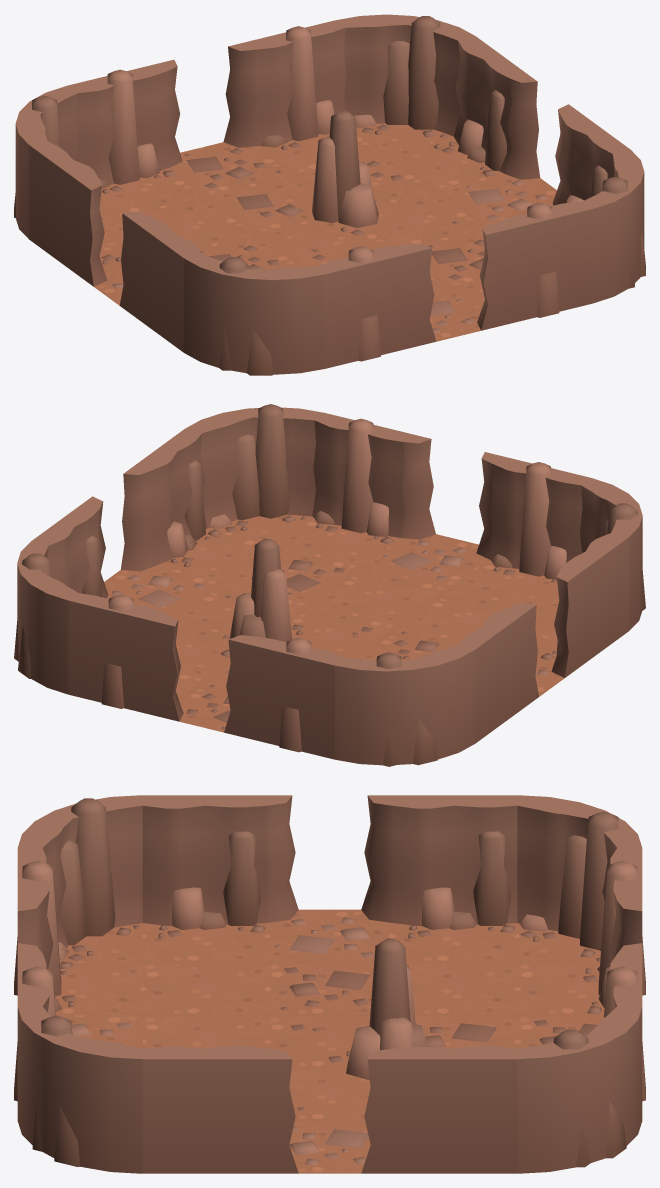
The model's file is room-large.glb.
3 views of the same model, one above another, from view 1: azimuth 30°, elevation 25°; view 2: azimuth 150°, elevation 25°; view 3: azimuth 270°, elevation 25° (orthographic). The views are drawn at different scales.
Parts seen in each view (by area): view 1: room-large; view 2: room-large; view 3: room-large.
Boxes of the visible parts, <box> form: room-large: <box>14,14,645,375</box>; room-large: <box>14,404,645,766</box>; room-large: <box>14,795,645,1173</box>.
Size of the model in its own units: 20 by 4.4 by 20.23.
1 material, 1 textured.
